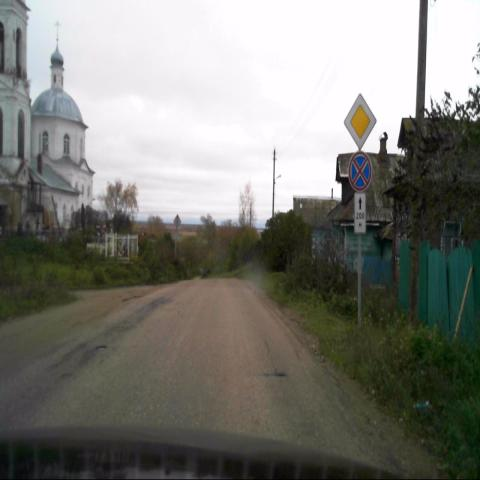8_2_2: (354, 194, 367, 233)
